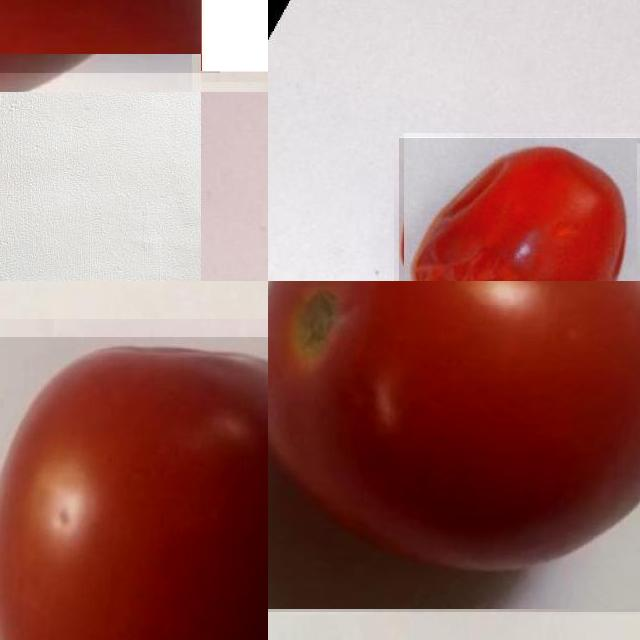1: (399, 137, 640, 281)
Fresh Tomato: (268, 281, 640, 612), (0, 337, 268, 640), (0, 0, 219, 73)
